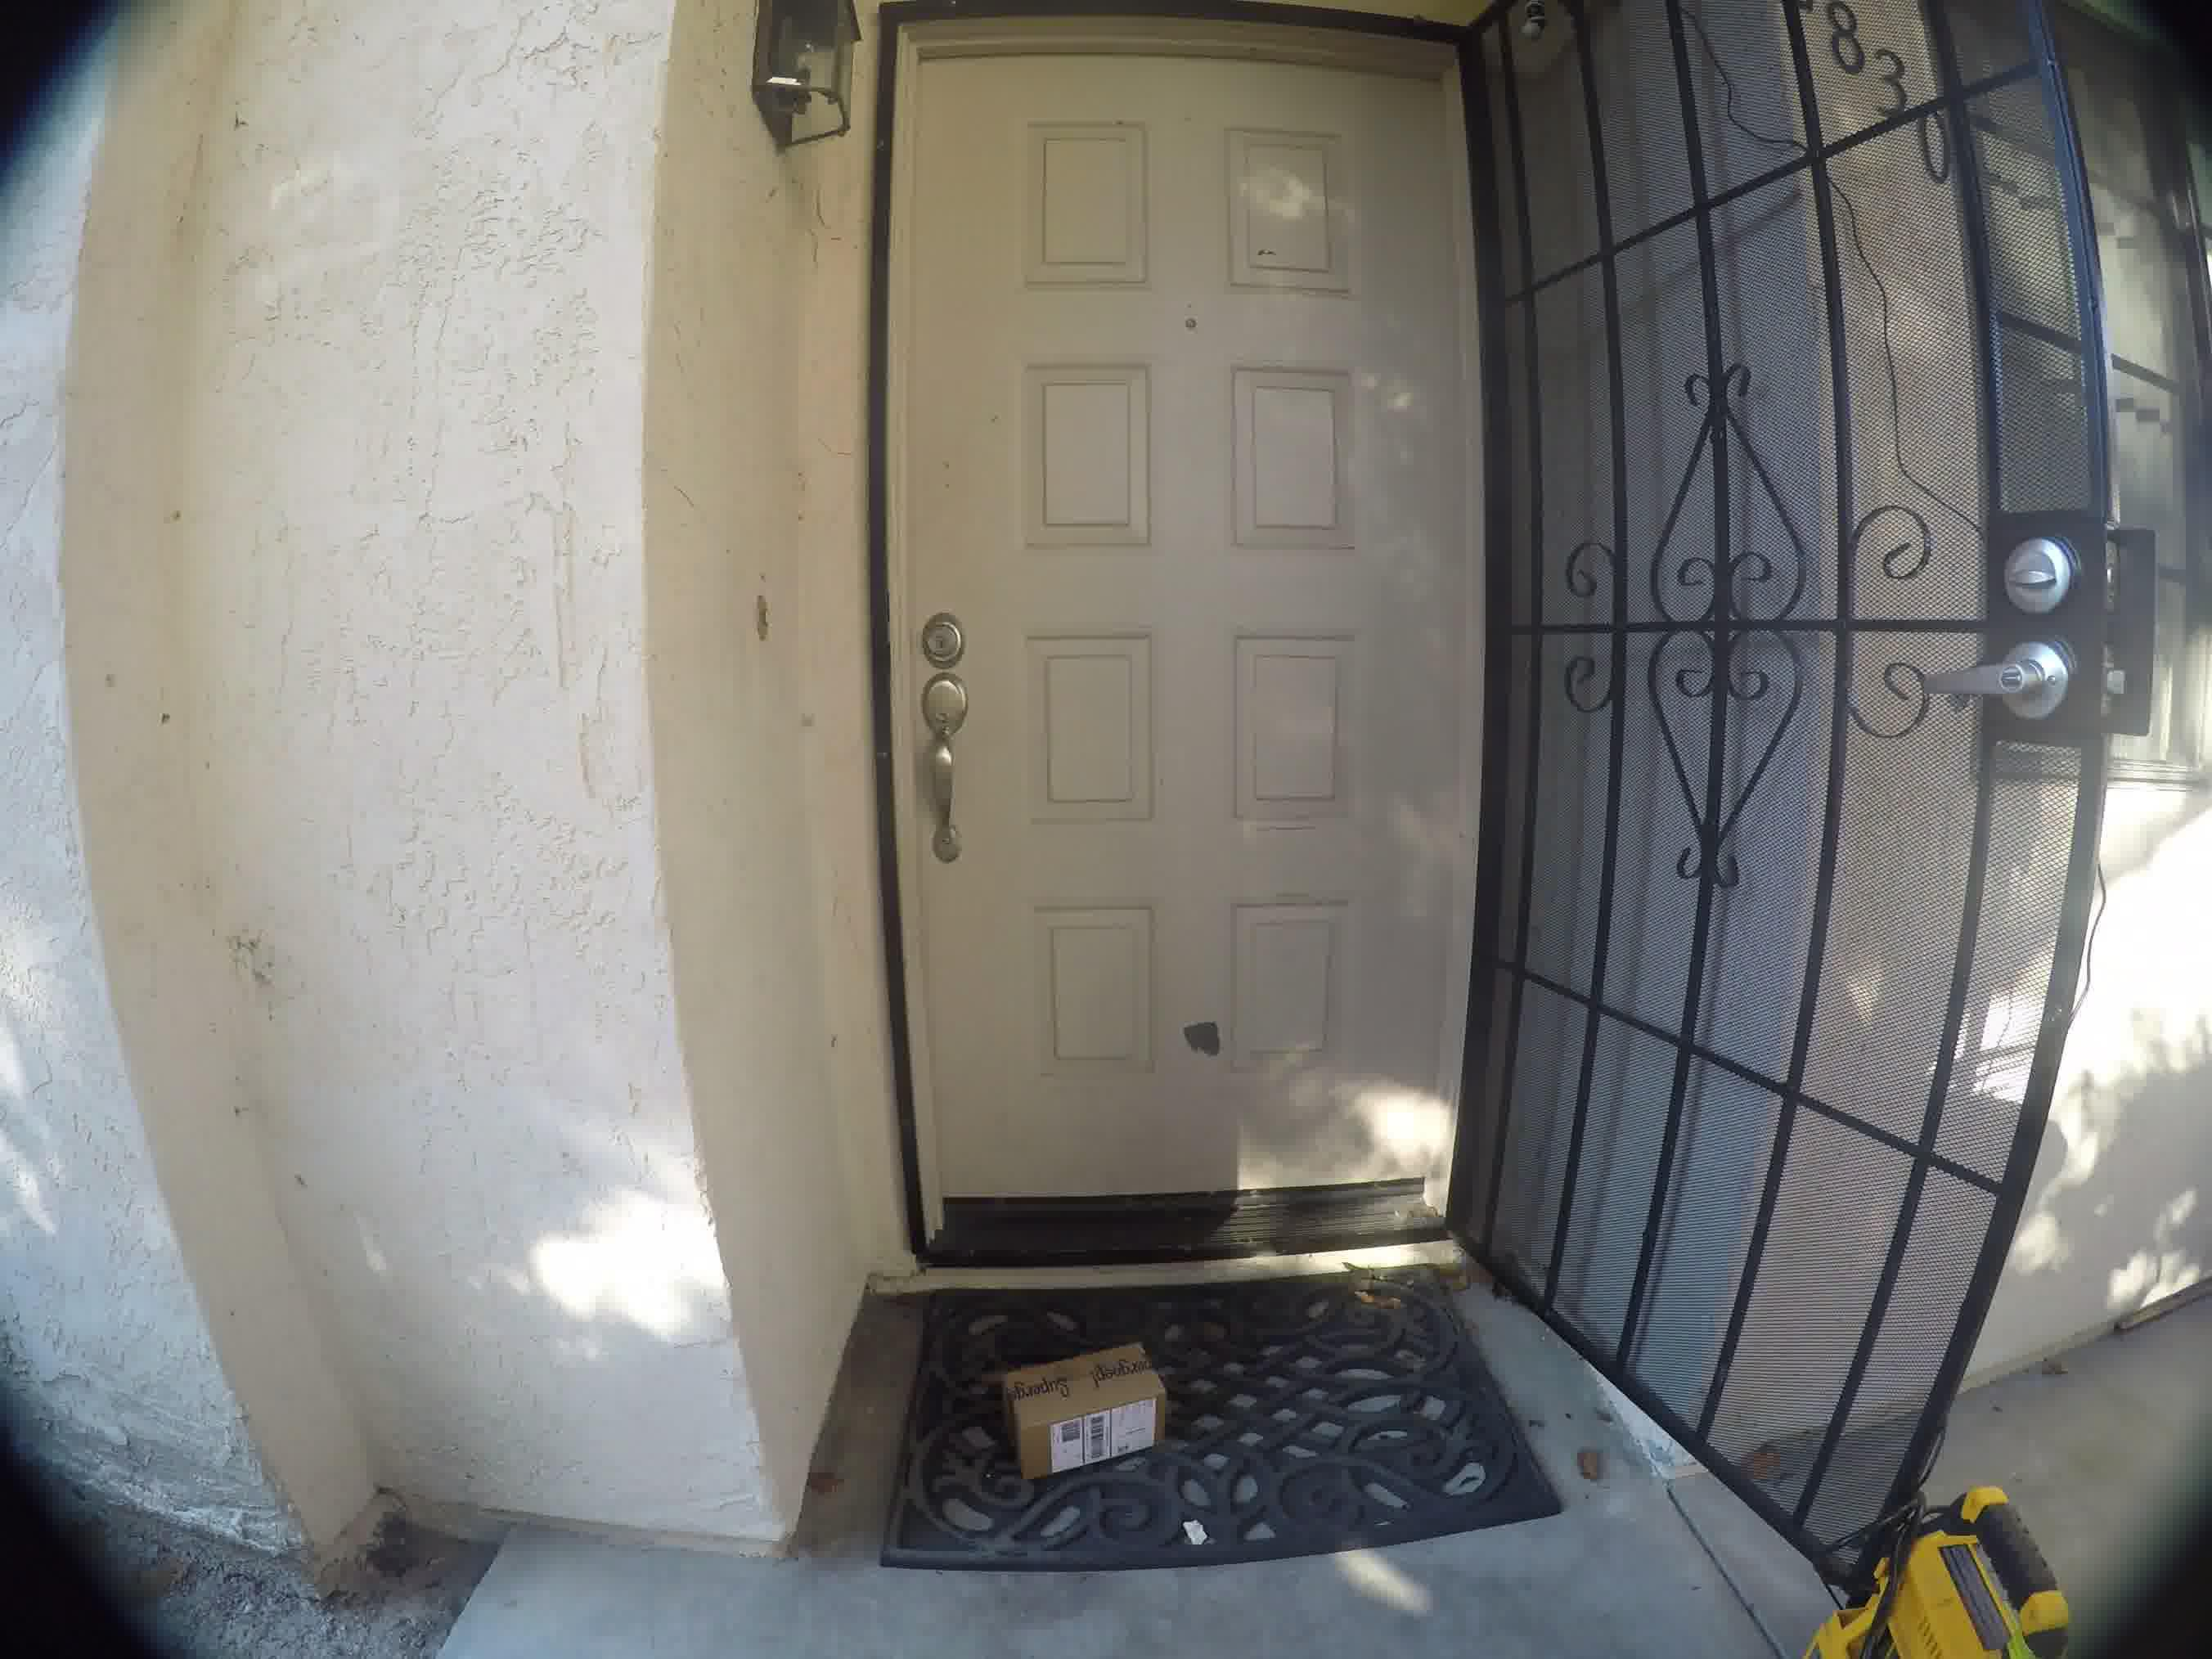box: (975, 1344, 1181, 1471)
